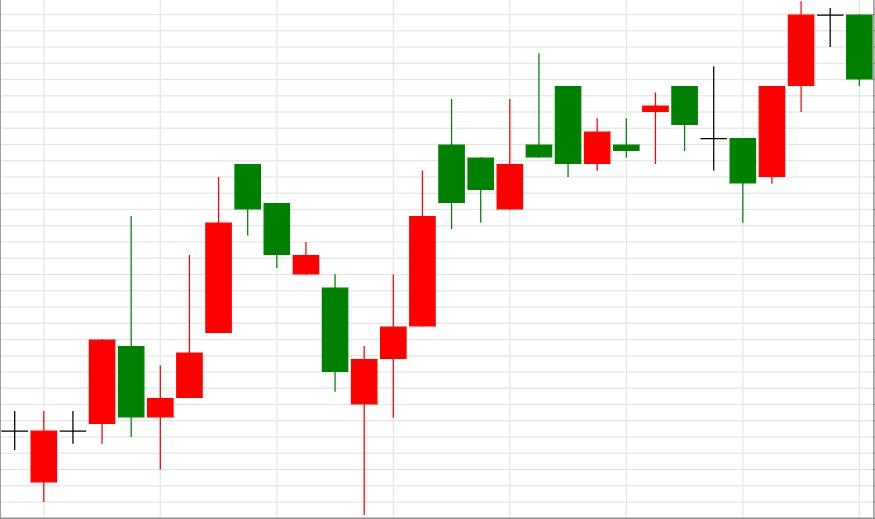evening_star_fall: (728, 1, 873, 223)
three_white_soldiers_rise: (233, 163, 437, 515)
